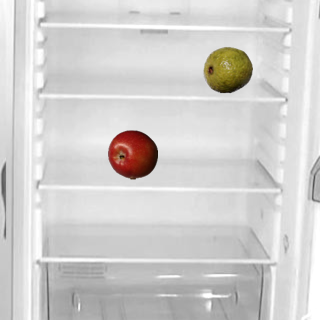Apple Braeburn: (107, 129, 157, 179)
Guava: (202, 44, 252, 94)
